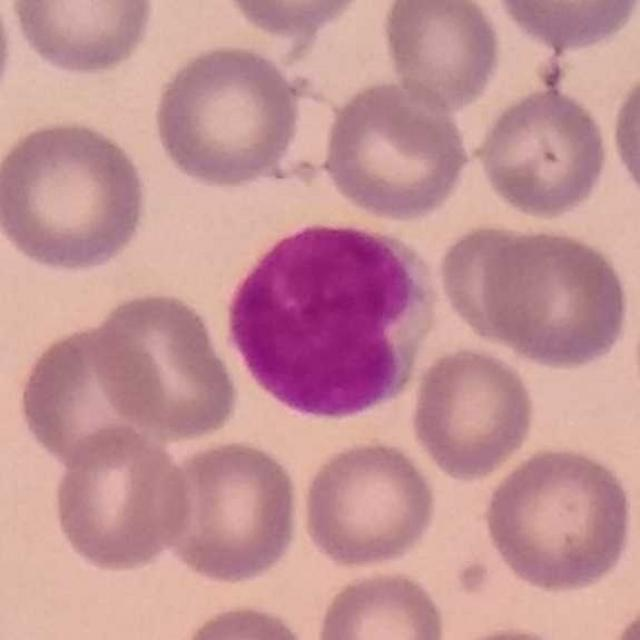Lymphocyte: (222, 216, 444, 427)
RBC: (473, 220, 632, 374), (0, 114, 151, 276), (87, 286, 241, 444), (479, 442, 636, 595), (14, 318, 167, 472), (149, 40, 305, 190), (317, 76, 473, 225), (49, 421, 196, 575), (156, 436, 304, 587), (297, 435, 441, 571), (471, 84, 612, 222), (407, 343, 539, 483), (378, 0, 504, 114), (6, 0, 158, 79), (312, 565, 448, 640), (489, 0, 640, 51), (219, 0, 371, 38), (170, 600, 314, 640), (607, 62, 640, 212), (433, 621, 583, 640), (0, 0, 17, 119), (604, 592, 640, 640), (629, 271, 640, 425)
